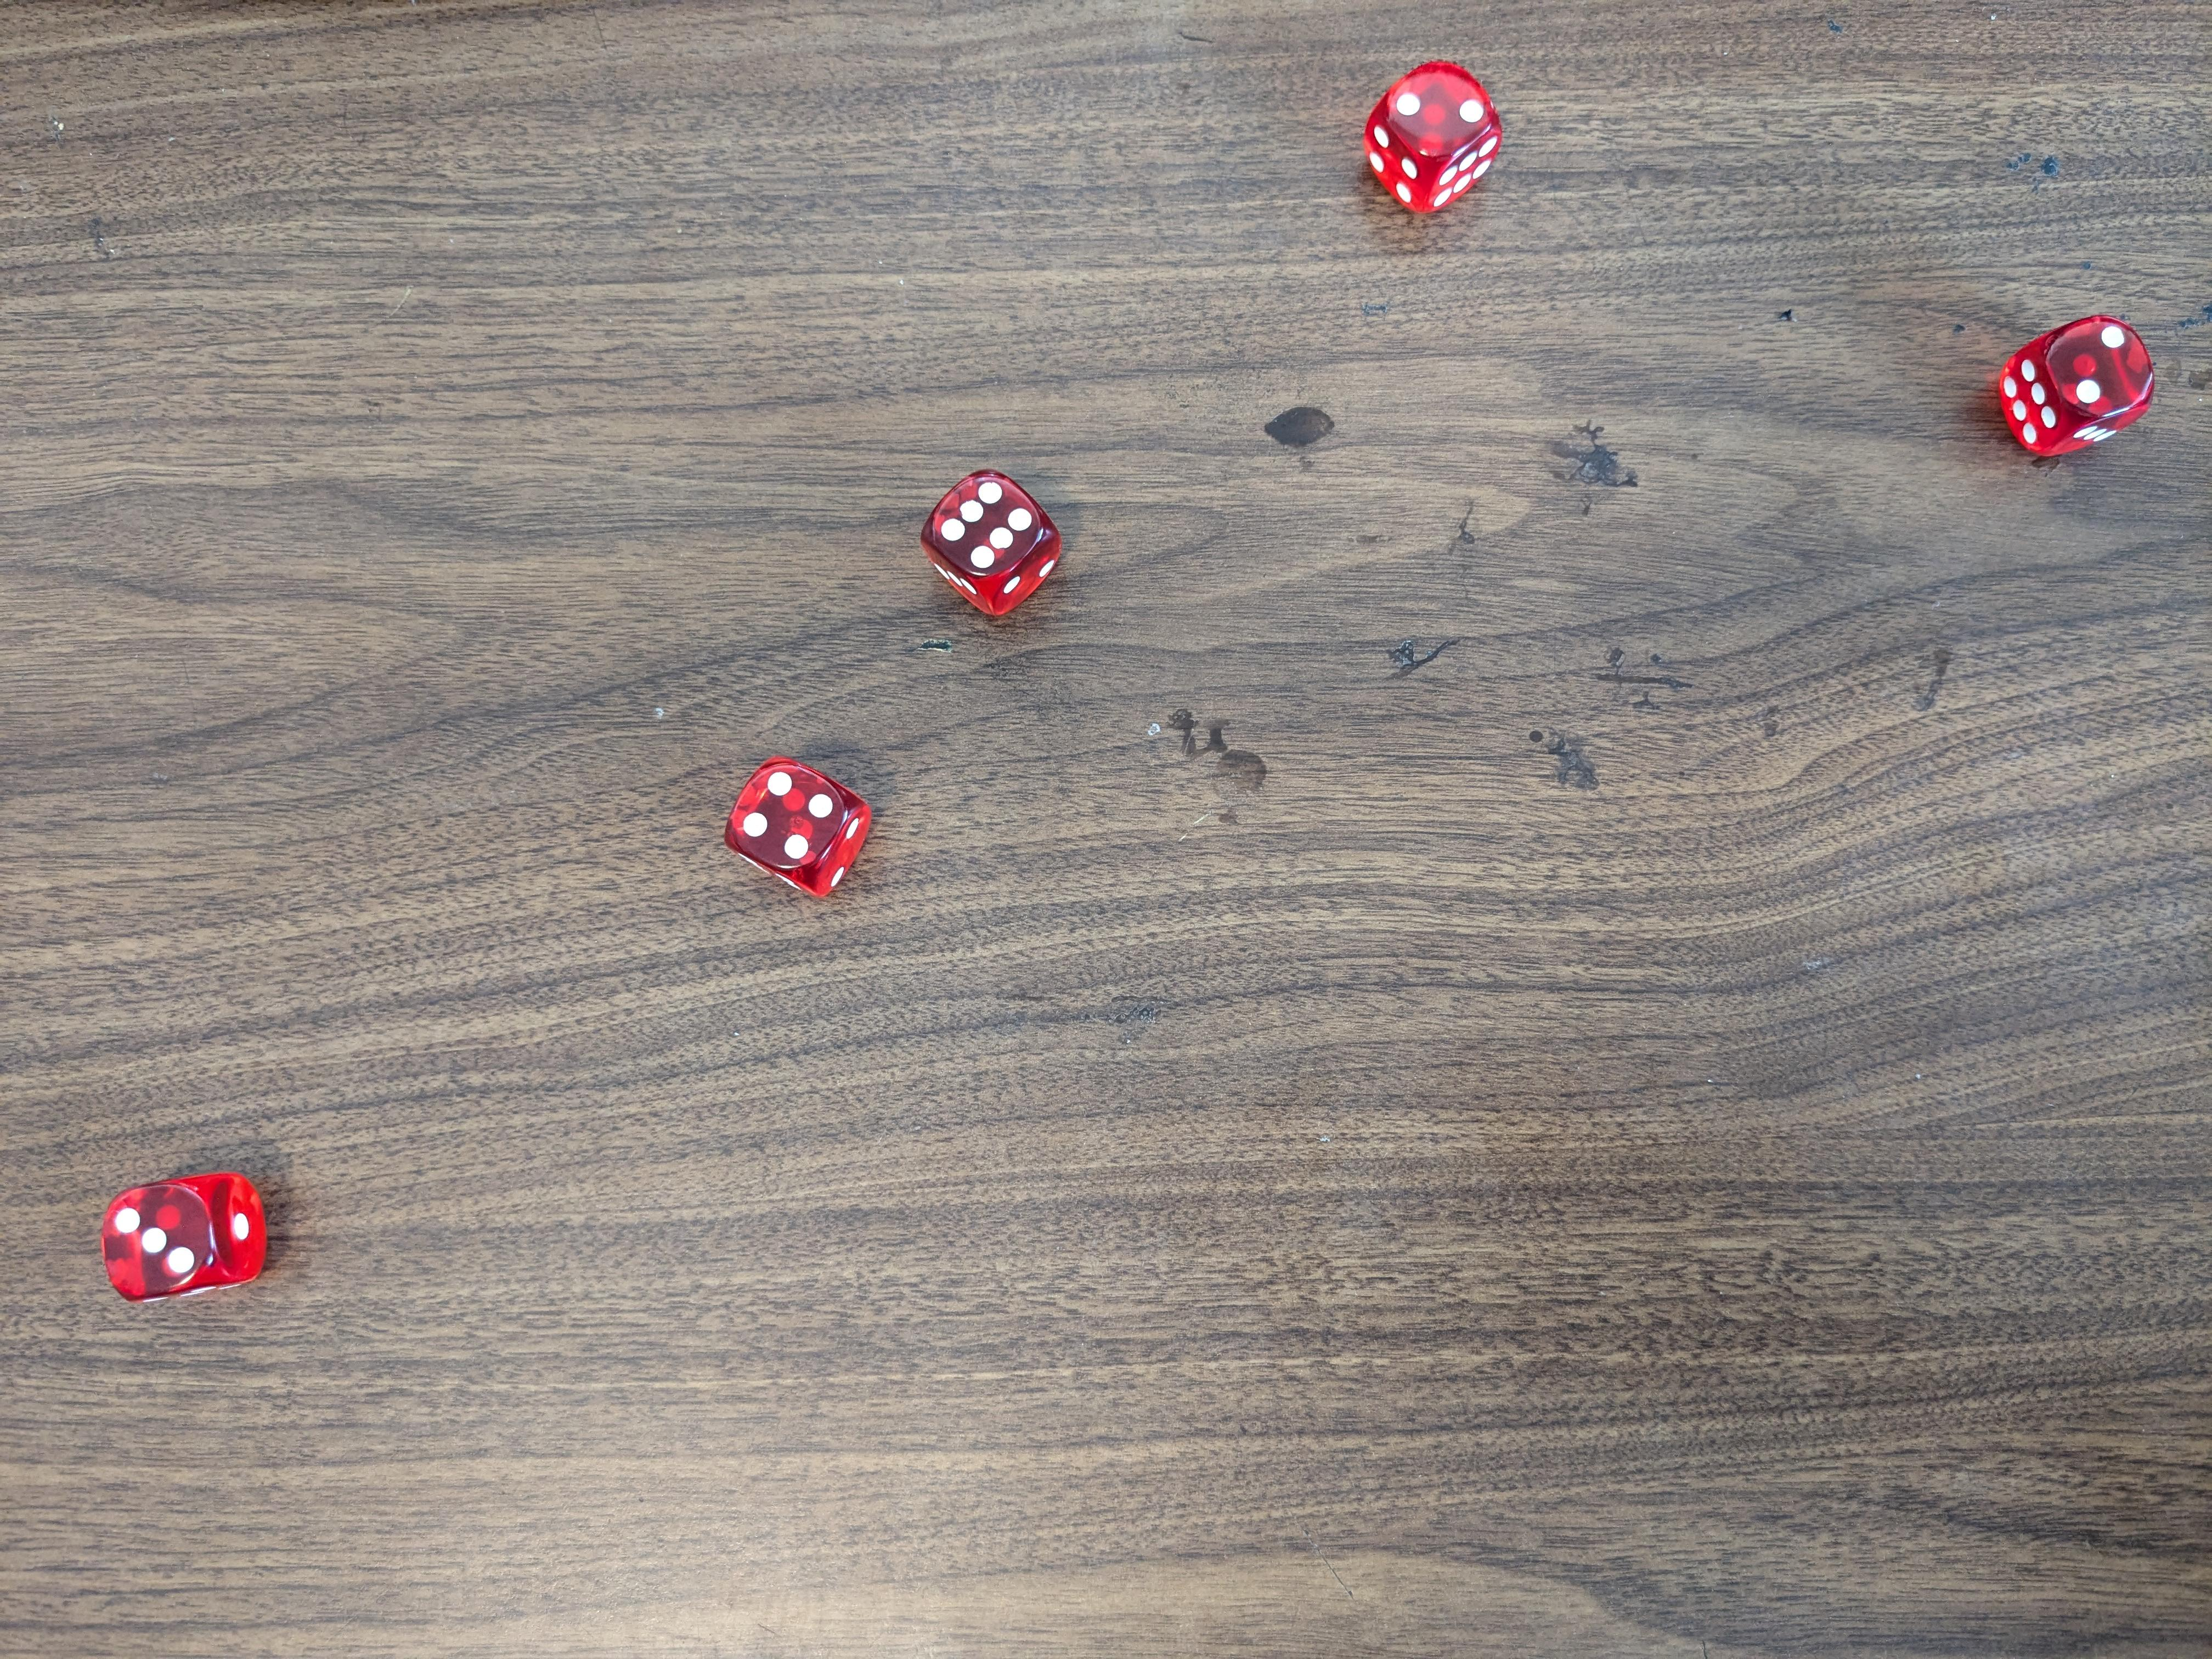four: (723, 749, 869, 899)
six: (921, 467, 1059, 617)
three: (105, 1164, 273, 1309)
two: (1991, 308, 2156, 457), (1367, 61, 1503, 213)
